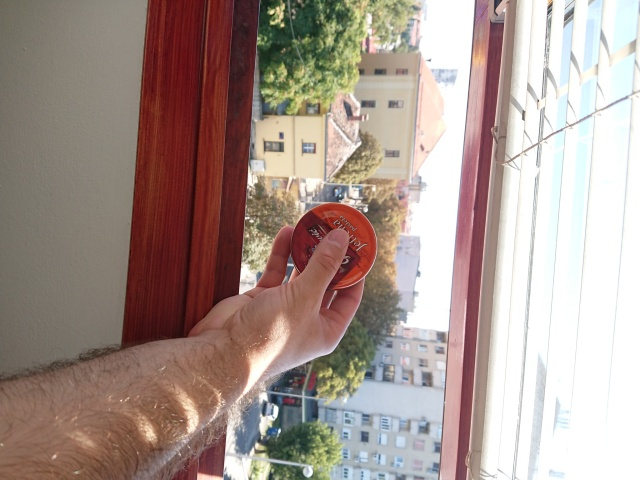Gavrilovic Pork Liver Pate 100g: (287, 200, 379, 292)
